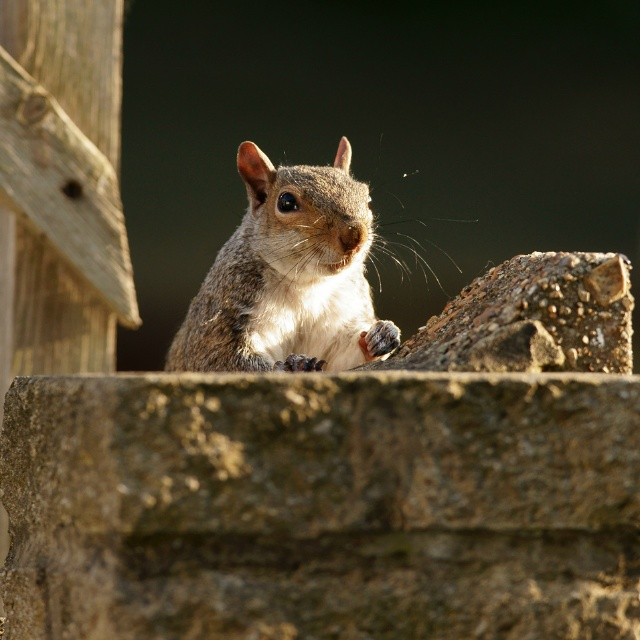Mouse: (146, 129, 403, 384)
